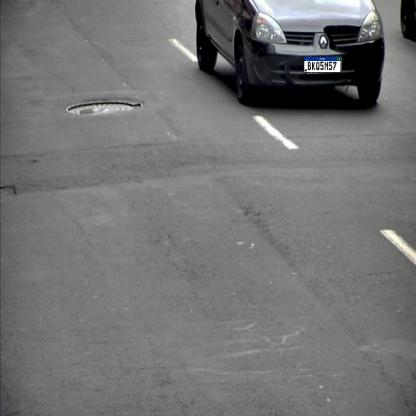PlacaM: (304, 56, 341, 73)
